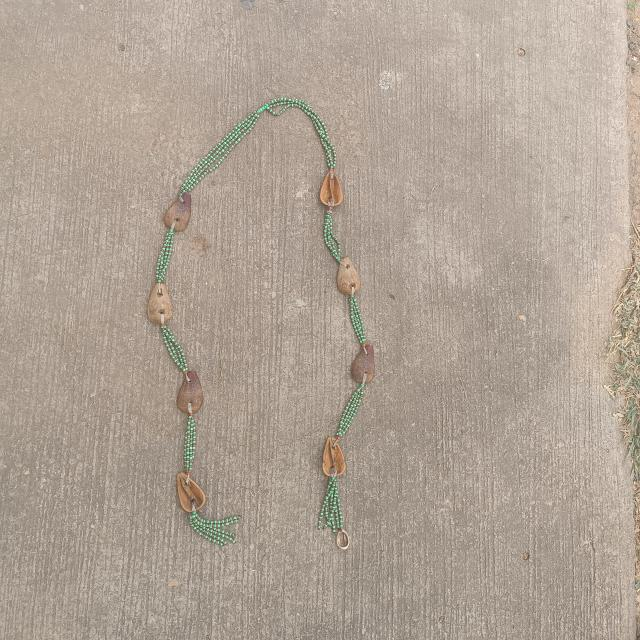facedown: (169, 363, 212, 418), (142, 275, 180, 329), (329, 253, 367, 304), (160, 188, 198, 238), (346, 339, 381, 392)
faceup: (166, 464, 212, 519), (316, 164, 348, 214), (318, 429, 348, 482)
